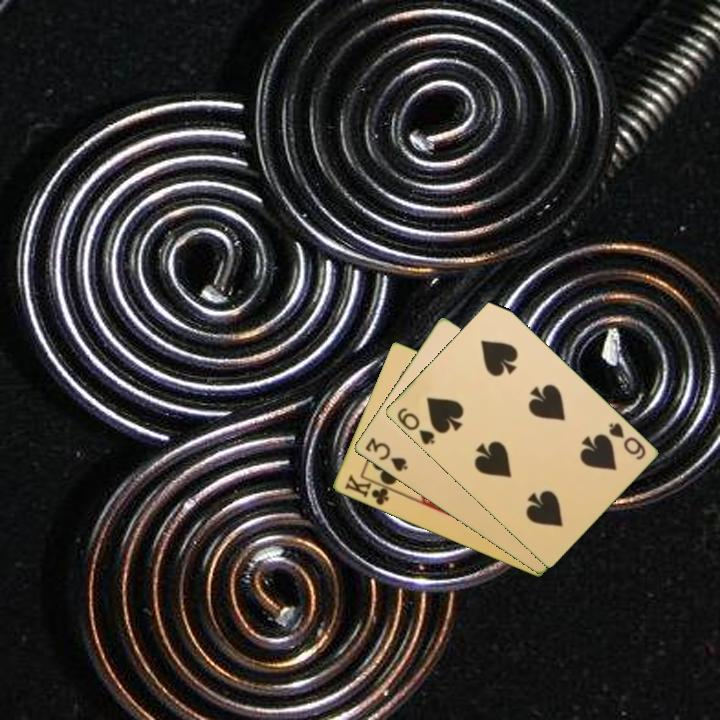3s: (361, 434, 411, 475)
6s: (393, 404, 437, 448), (605, 419, 648, 463)
Kc: (341, 471, 396, 508)
